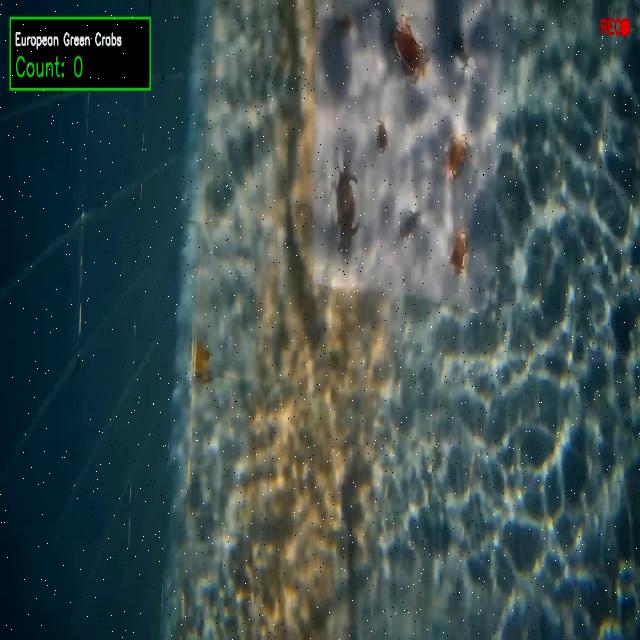European_Green_Crab: (331, 153, 362, 257), (395, 204, 424, 245), (449, 31, 474, 75)
